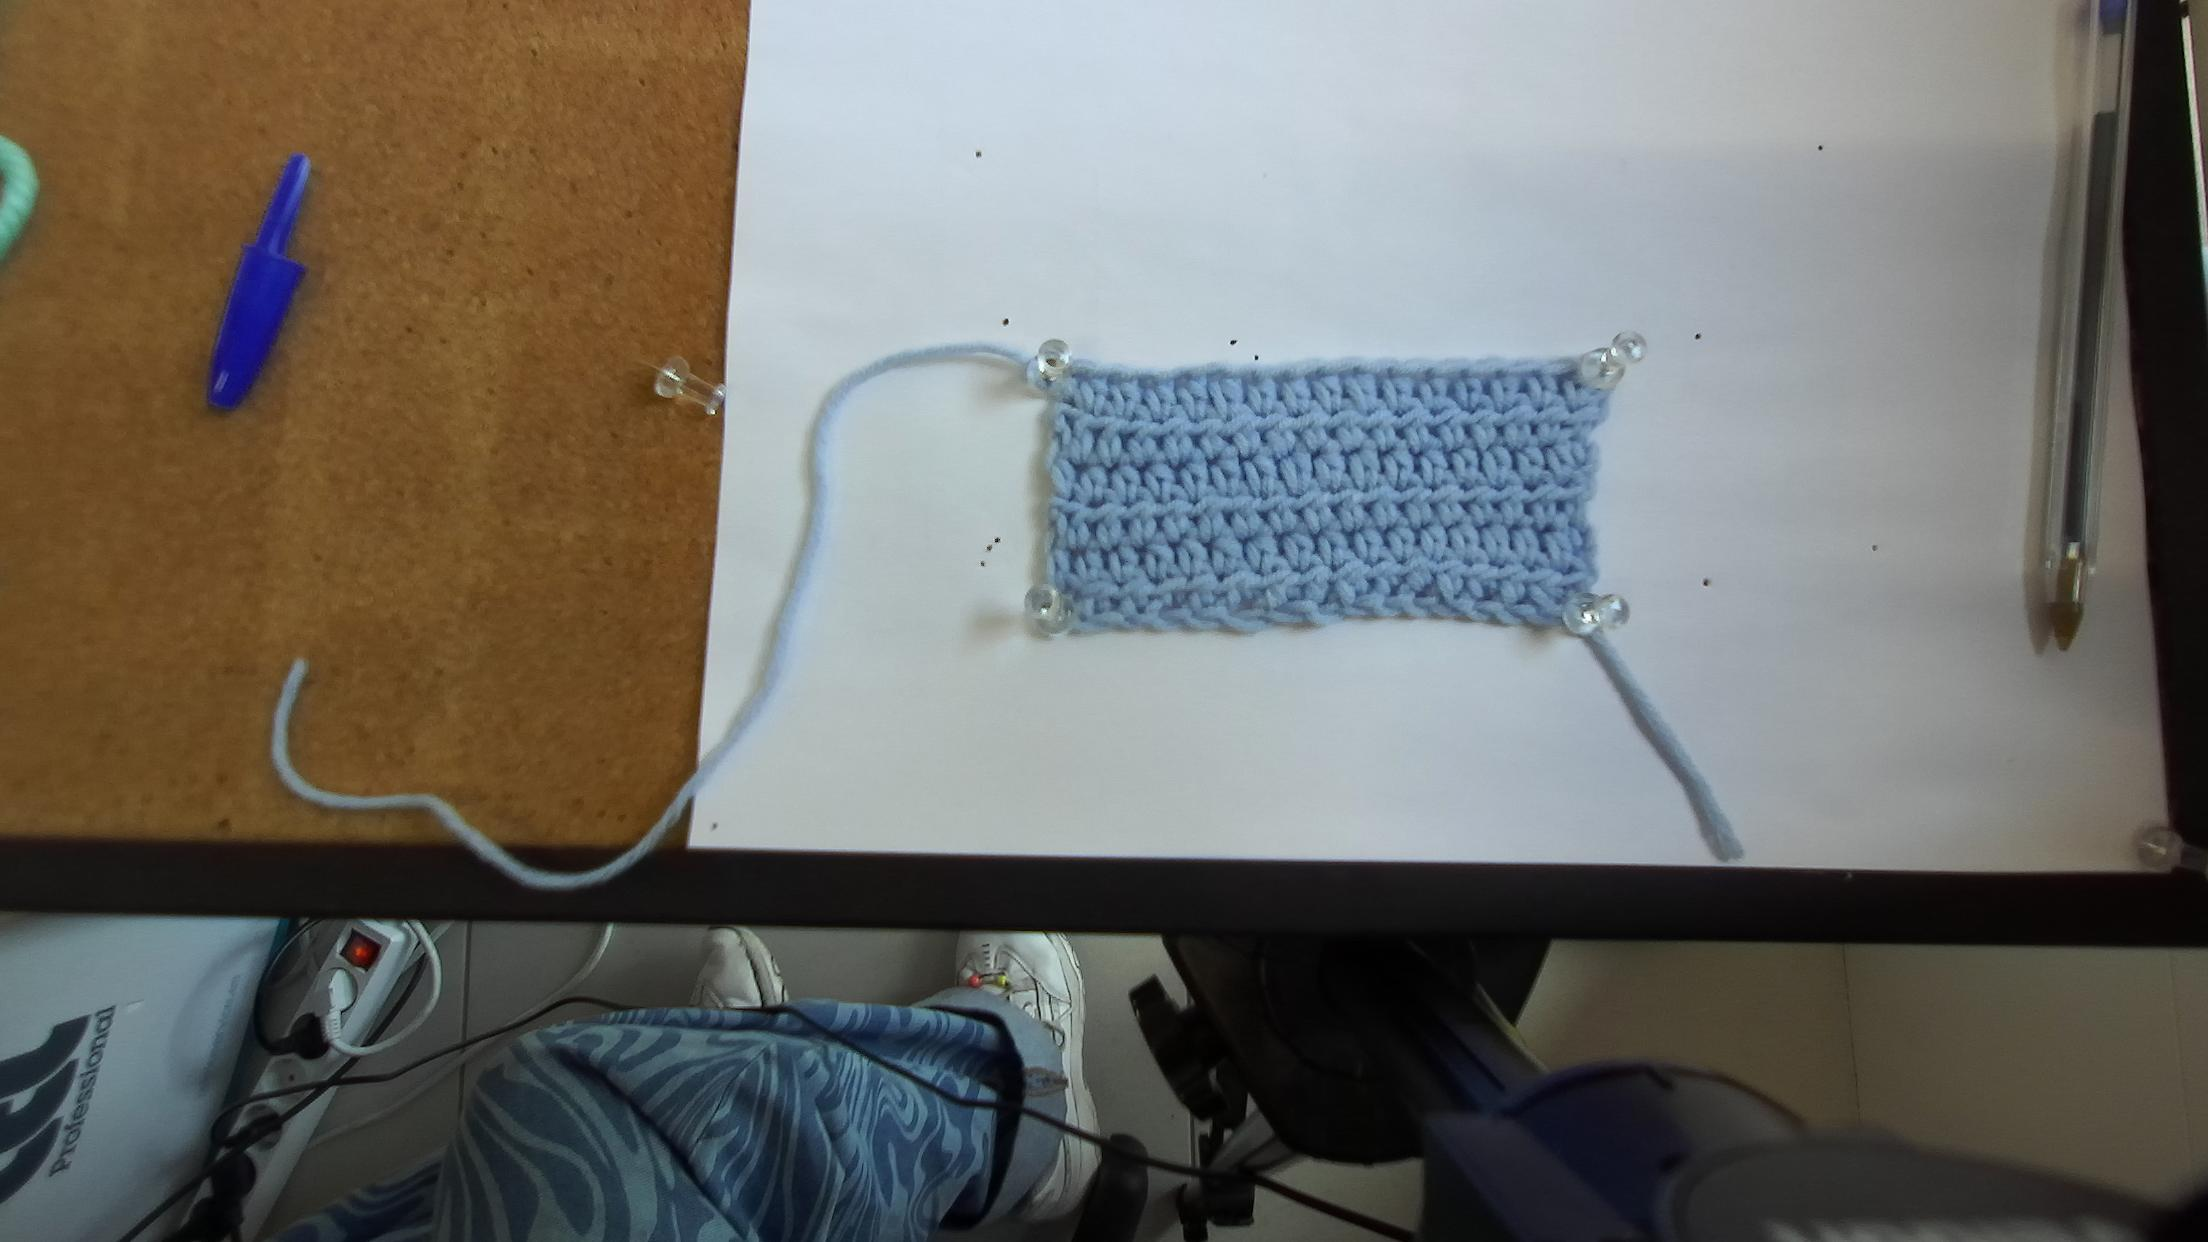hole: (1206, 372, 1228, 390), (1136, 378, 1157, 393), (1174, 378, 1189, 396), (1410, 370, 1429, 385), (1339, 367, 1359, 381), (1271, 373, 1287, 388), (1374, 367, 1391, 382), (1069, 372, 1087, 384), (1444, 372, 1463, 382), (1304, 369, 1319, 382), (1104, 375, 1121, 387), (1520, 372, 1541, 381), (1556, 372, 1574, 382), (1240, 372, 1254, 385), (1482, 370, 1498, 381)
swatch: (1048, 355, 1607, 638)
